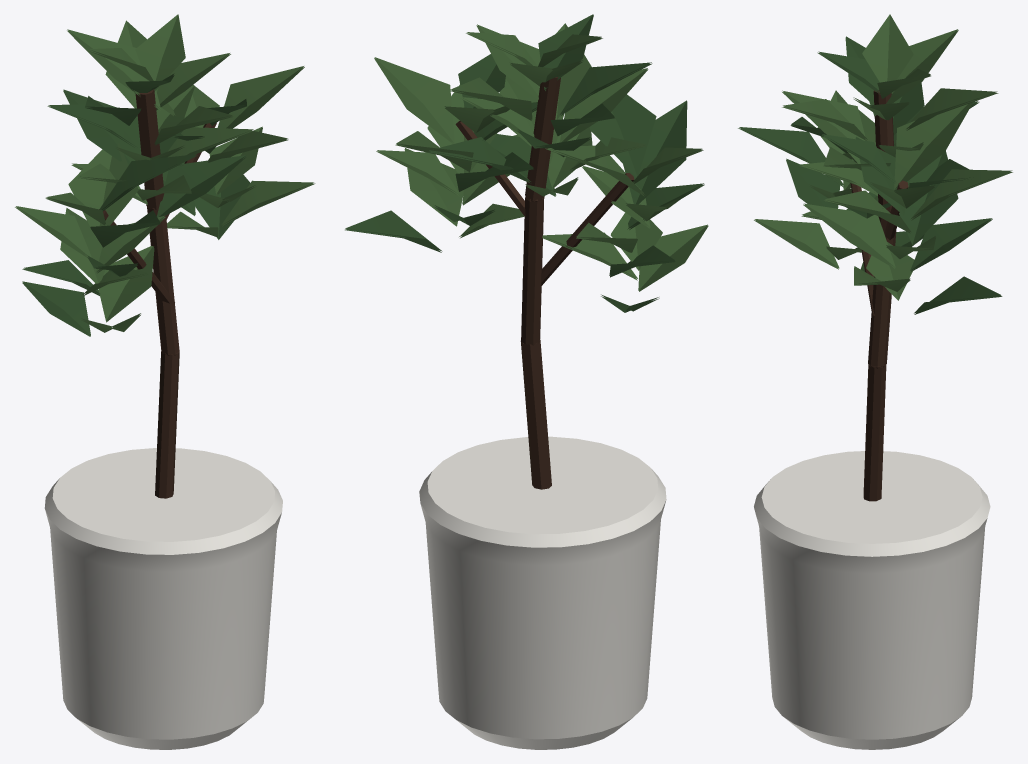
File: prop_plant_tall.glb
3 views of the same model, side by side, from view 1: azimuth 30°, elevation 25°; view 2: azimuth 150°, elevation 25°; view 3: azimuth 270°, elevation 25° (orthographic). The views are drawn at different scales.
Visible parts, largest first — view 1: Plant; view 2: Plant; view 3: Plant.
Part boxes in pixels (box(x1,y1,x2,y2)): Plant: box(15, 14, 315, 749); Plant: box(345, 14, 708, 749); Plant: box(738, 14, 1012, 749).
Size of what is drawn, in the model's own units: 0.6297 by 1.41 by 0.525.
